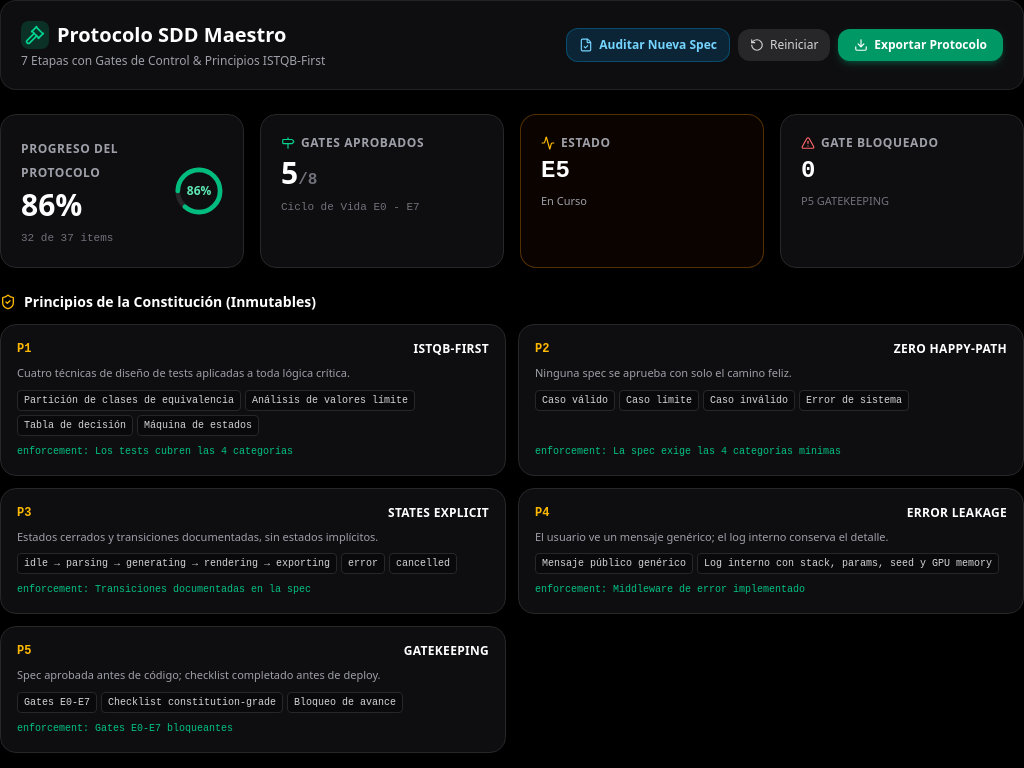
Scenario: SddMaestroView — spec auditor round trip › audits a complete spec and announces the verdict in the live region
This screenshot has width=1024, height=768.
Click the button "Auditar Nueva Spec".
click(648, 45)  # box [566,28,730,62]
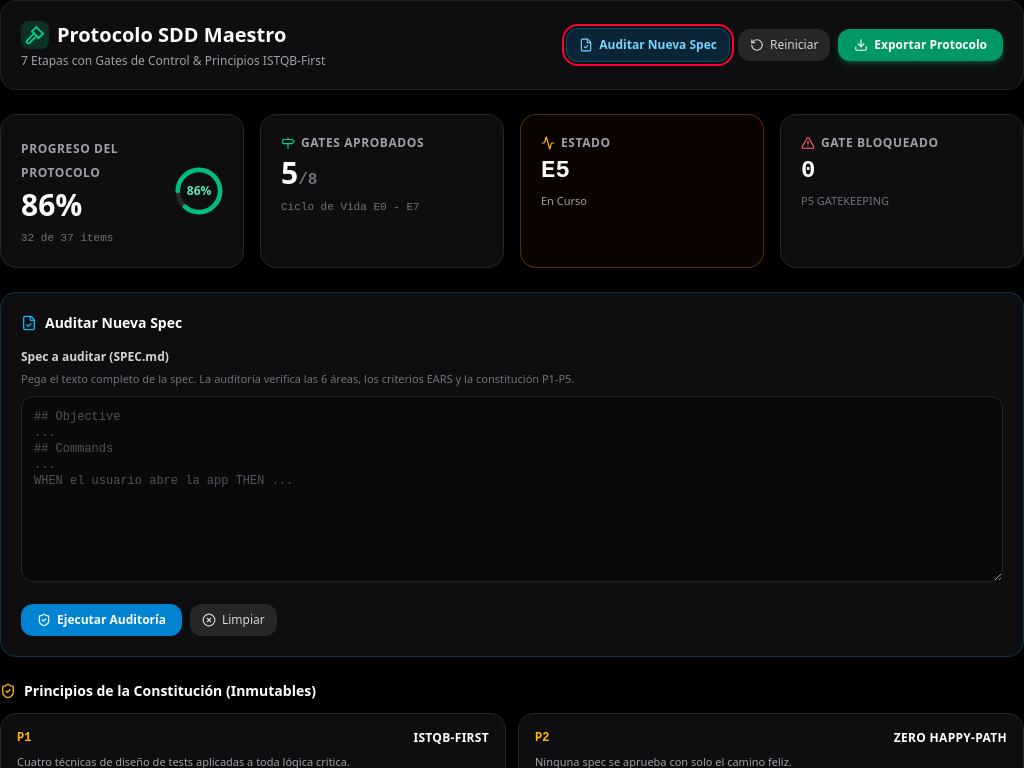
Replace the text in the text box labelled "Spec a auditar (SPEC.md)" with "# SPEC — Zion ## Objective Restaurar el workspace para que build, lint y tests pasen en verde. ## Commands npm run build, npm run lint, npm test ## Project Structure src/, server.ts, scripts/ ## Code " at x=512, y=488, box [21,396,1003,582]
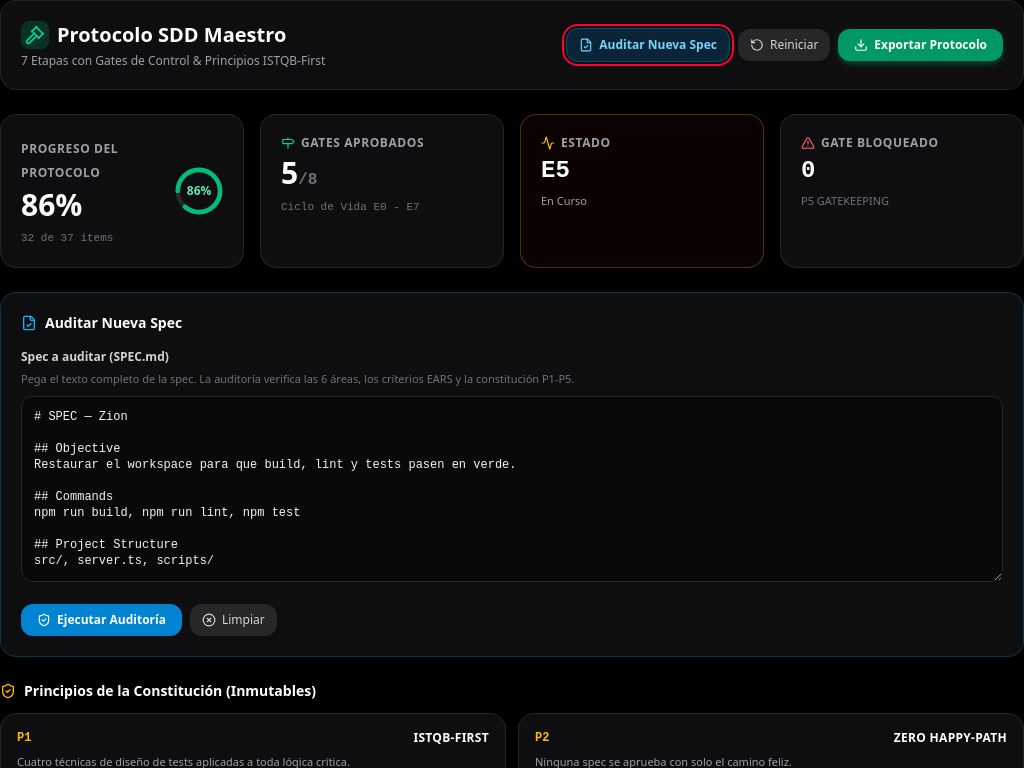
Click the button "Ejecutar Auditoría".
click(102, 620)  # box [21,604,182,636]
(page scrolled)
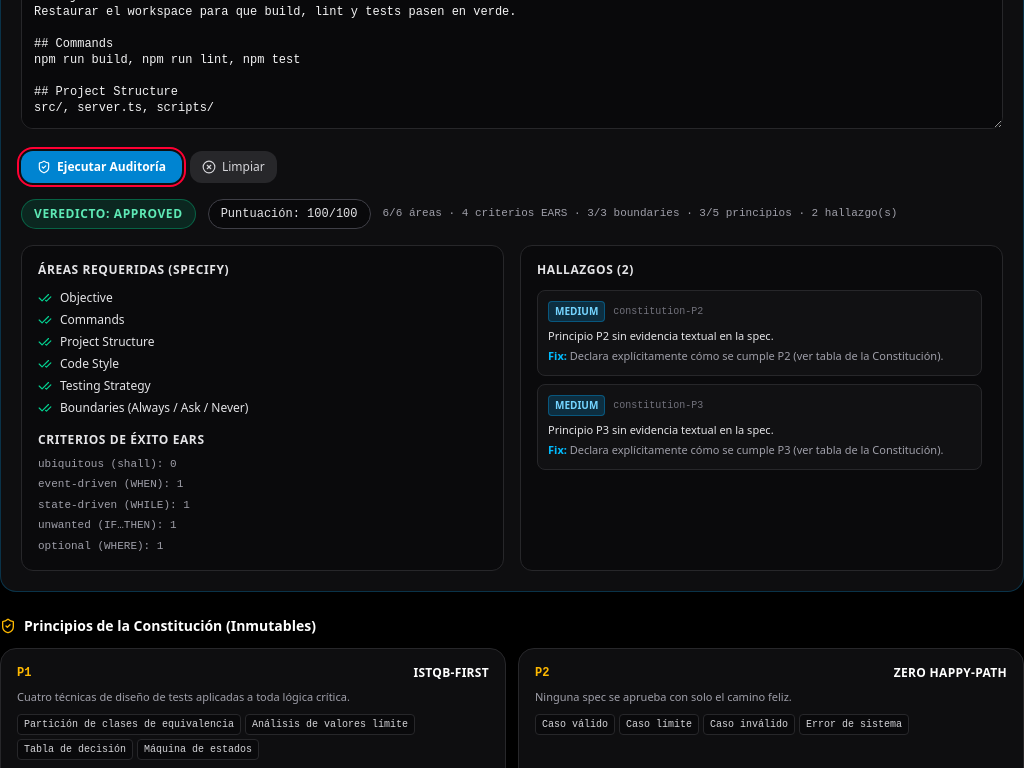
Expected: the element that starts with "Veredicto" shows "Veredicto: approved", [21,198,1003,571]
Expected: the element that starts with "Veredicto" shows "WHEN", [38,478,177,490]
